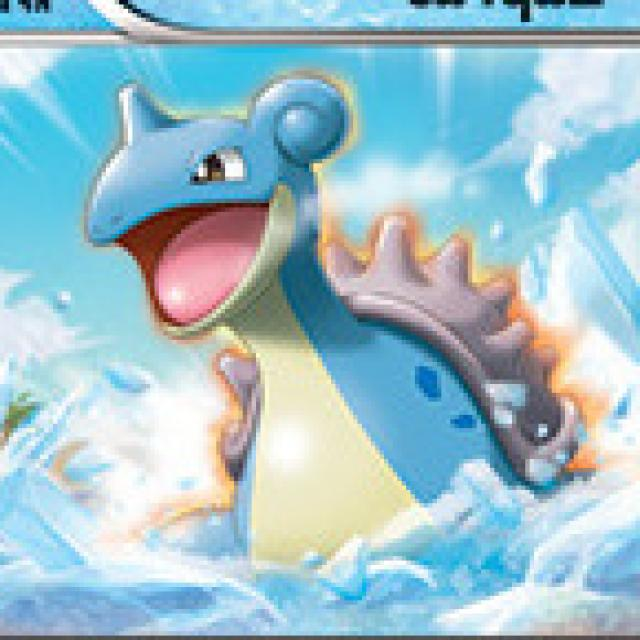Lapras: (86, 68, 554, 545)
